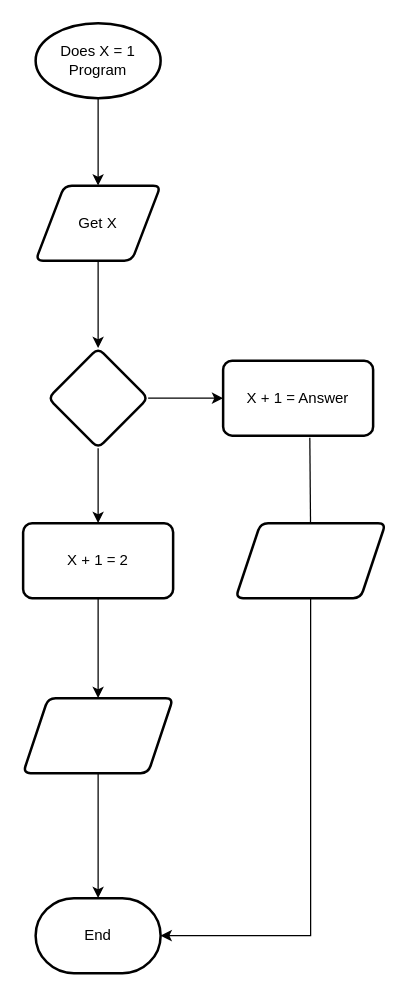
The diagram is 408 pixels wide and 995 high, and some of its shapes have lost their labels. The shapes that lost their labels are listed below. From the top down, each one's centre as x and y in pixels, then its label:
At point (97, 397): "If X = 1".
At point (310, 560): "Show X + 1 = Answer and Not 2".
At point (97, 735): "Show X + 1 = 2".
